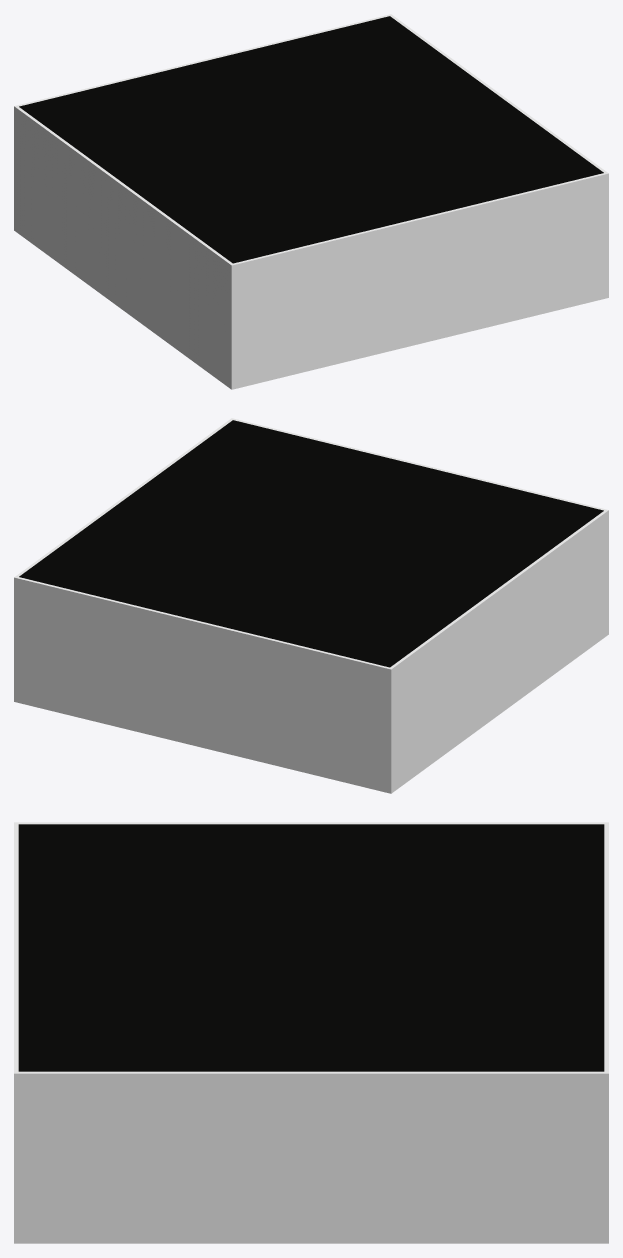
The picture shows the model from 3 angles, top to bottom: view 1: azimuth 30°, elevation 25°; view 2: azimuth 150°, elevation 25°; view 3: azimuth 270°, elevation 25°; orthographic projection. The views are drawn at different scales.
Visible parts, largest first — view 1: Int_Apt_03_Corner_01 (1), Int_Apt_03_Corner_01 (2), Int_Apt_03_Wall_01 (5), Int_Apt_03_Wall_01 (3), Int_Apt_03_Wall_01 (7), Int_Apt_03_Corner_01, NorthWallContent, Int_Apt_03_Wall_01 (2), Int_Apt_03_Wall_01, WestDoor, Int_apt_01_Ceiling_01 (3), Int_apt_01_Ceiling_01 (9) (+23 smaller); view 2: Int_Apt_03_Corner_01, Int_Apt_03_Corner_01 (3), Int_Apt_03_Wall_01 (9), EastWallContent, Int_Apt_03_Wall_01 (11), Int_Apt_03_Corner_01 (1), NorthWallContent, Int_Apt_03_Wall_01, Int_Apt_03_Wall_01 (2), Int_apt_01_Ceiling_01 (7), Int_apt_01_Ceiling_01 (1), Int_apt_01_Ceiling_01 (19) (+22 smaller); view 3: Int_Apt_03_Corner_01 (3), Int_Apt_03_Corner_01 (2), Int_Apt_03_Wall_01 (8), Int_Apt_03_Wall_01 (10), Int_Apt_03_Wall_01 (12), Int_apt_01_Ceiling_01 (19), Int_apt_01_Ceiling_01 (18), Int_apt_01_Ceiling_01 (6), Int_apt_01_Ceiling_01 (7), Int_apt_01_Ceiling_01 (17), Int_apt_01_Ceiling_01 (8), Int_apt_01_Ceiling_01 (9) (+21 smaller).
Boxes of the visible parts, box(x1,y1,x2,y2) form: Int_Apt_03_Corner_01 (1): box(187, 232, 308, 389); Int_Apt_03_Corner_01 (2): box(530, 141, 608, 316); Int_Apt_03_Wall_01 (5): box(456, 191, 531, 334); Int_Apt_03_Wall_01 (3): box(307, 227, 383, 370); Int_Apt_03_Wall_01 (7): box(382, 209, 456, 352); Int_Apt_03_Corner_01: box(14, 87, 92, 262); NorthWallContent: box(101, 169, 146, 325); Int_Apt_03_Wall_01 (2): box(144, 201, 189, 356); Int_Apt_03_Wall_01: box(58, 138, 103, 293); WestDoor: box(382, 209, 457, 352); Int_apt_01_Ceiling_01 (3): box(296, 146, 412, 195); Int_apt_01_Ceiling_01 (9): box(413, 160, 529, 208); Int_Apt_03_Corner_01: box(314, 636, 435, 793); Int_Apt_03_Corner_01 (3): box(14, 545, 92, 720); Int_Apt_03_Wall_01 (9): box(239, 631, 315, 774); EastWallContent: box(165, 613, 240, 756); Int_Apt_03_Wall_01 (11): box(91, 595, 166, 738); Int_Apt_03_Corner_01 (1): box(530, 491, 608, 666); NorthWallContent: box(476, 573, 521, 729); Int_Apt_03_Wall_01: box(433, 605, 478, 760); Int_Apt_03_Wall_01 (2): box(519, 542, 564, 697); Int_apt_01_Ceiling_01 (7): box(93, 564, 209, 612); Int_apt_01_Ceiling_01 (1): box(210, 550, 326, 599); Int_apt_01_Ceiling_01 (19): box(413, 474, 529, 523); Int_Apt_03_Corner_01 (3): box(487, 1022, 608, 1243); Int_Apt_03_Corner_01 (2): box(14, 1022, 135, 1243); Int_Apt_03_Wall_01 (8): box(135, 1071, 252, 1243); Int_Apt_03_Wall_01 (10): box(370, 1071, 487, 1243); Int_Apt_03_Wall_01 (12): box(259, 1071, 375, 1243); Int_apt_01_Ceiling_01 (19): box(18, 873, 135, 923); Int_apt_01_Ceiling_01 (18): box(135, 873, 252, 923); Int_apt_01_Ceiling_01 (6): box(370, 972, 487, 1022); Int_apt_01_Ceiling_01 (7): box(487, 972, 604, 1022); Int_apt_01_Ceiling_01 (17): box(487, 873, 604, 923); Int_apt_01_Ceiling_01 (8): box(135, 972, 252, 1022); Int_apt_01_Ceiling_01 (9): box(18, 972, 135, 1022).
Bounding box in the file's own units: 12.7 × 4 × 12.7.
6 materials, 4 textured.
